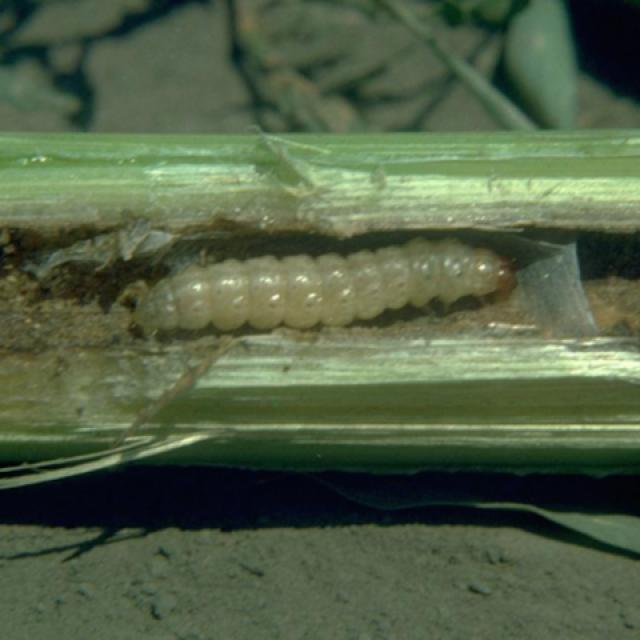cornborer-Larva-: (131, 222, 518, 352)
